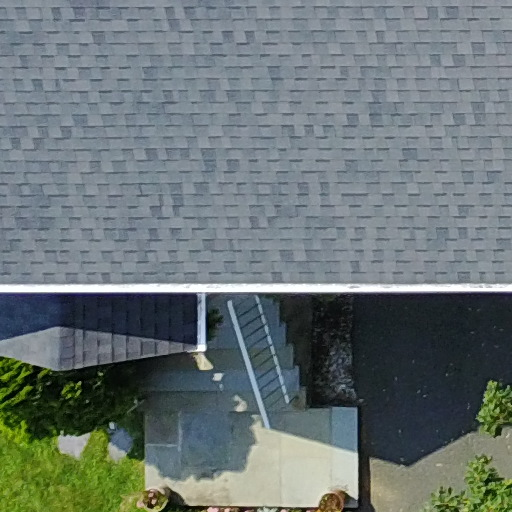flower pot: (307, 480, 348, 512), (136, 480, 170, 512)
